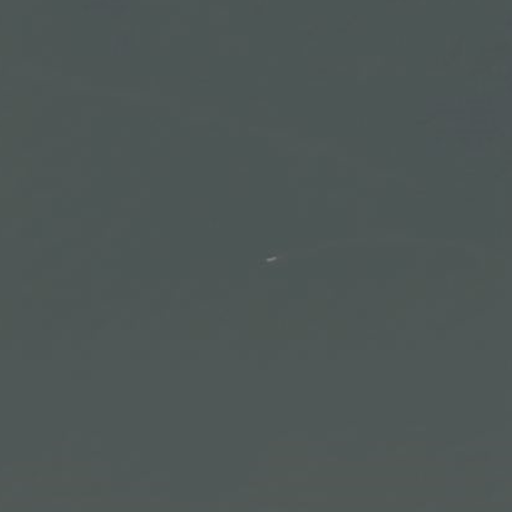ship: (262, 252, 281, 265)
